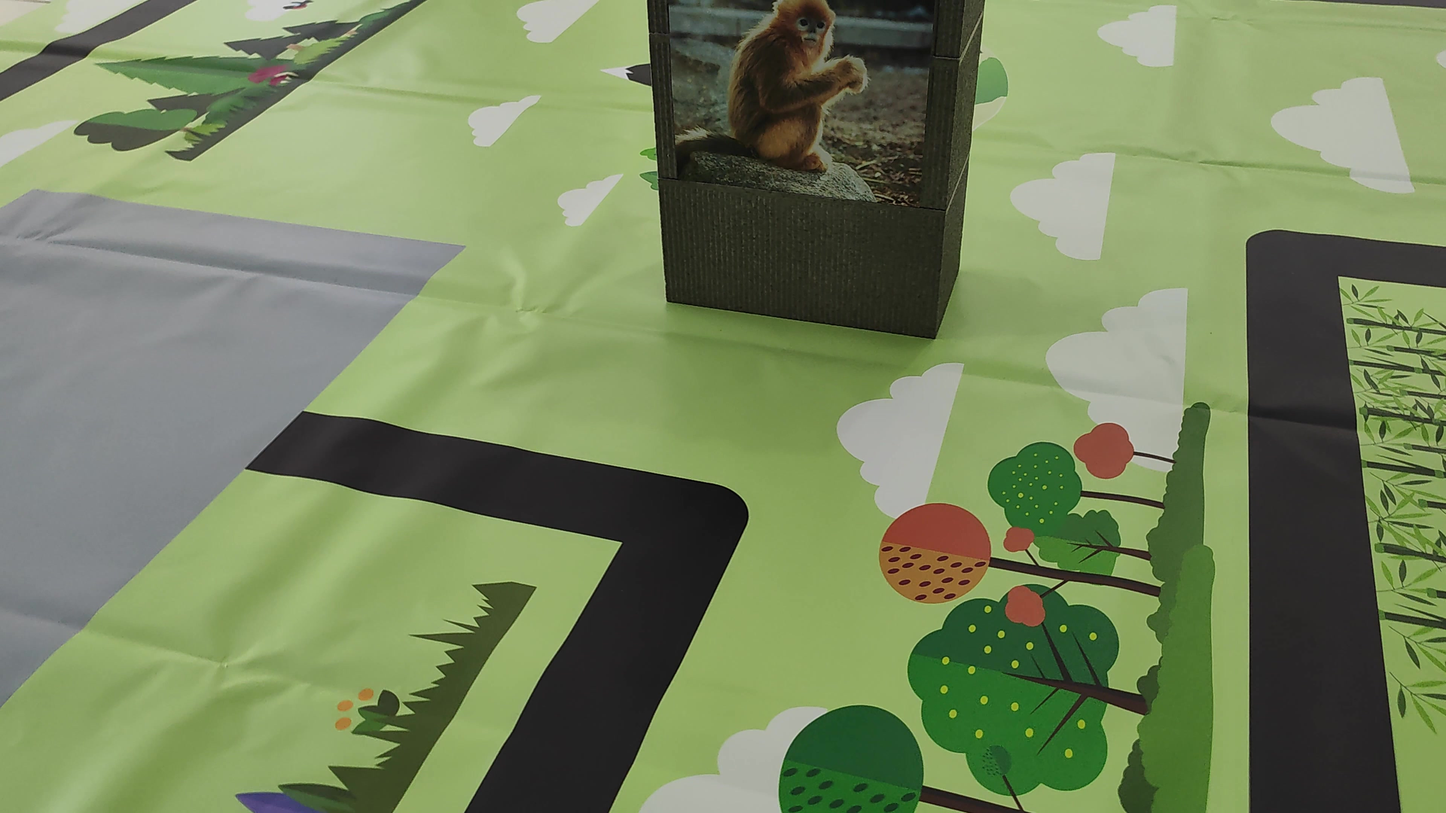monkey: (693, 0, 925, 187)
